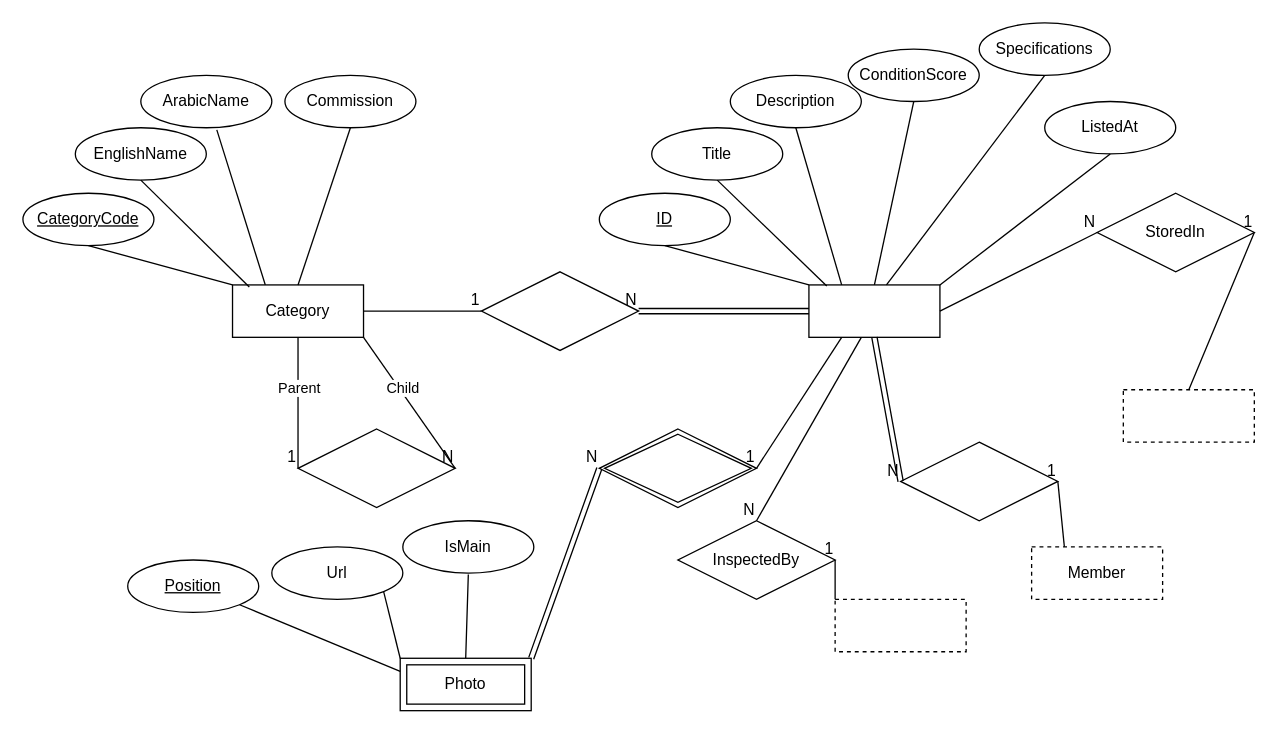
Some shapes in this 1279 by 734 pixel diagram are drawn without their labels. Each missing label, with the centre of its shape:
BelongsTo: point (559, 310)
Employee: point (900, 625)
Has: point (978, 481)
Identified: point (677, 468)
Item: point (874, 310)
ParentOf: point (376, 468)
Warehouse: point (1188, 415)
